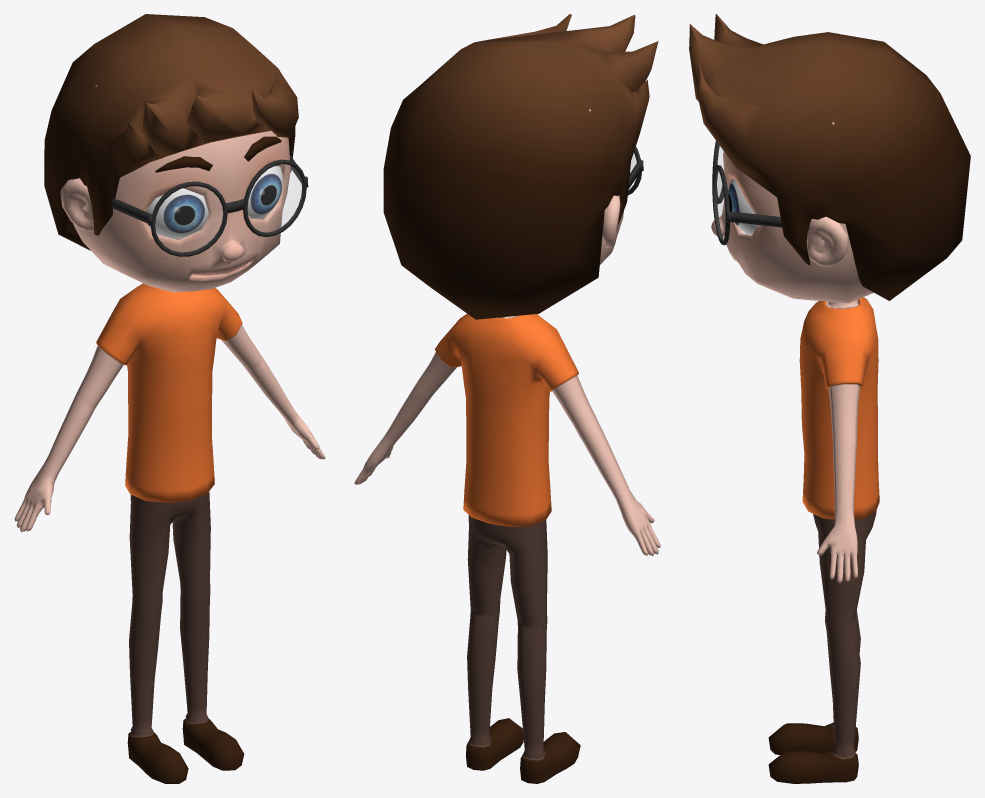
The model's file is Boy1.obj.
3 views of the same model, side by side, from view 1: azimuth 30°, elevation 25°; view 2: azimuth 150°, elevation 25°; view 3: azimuth 270°, elevation 25° (orthographic).
Parts seen in each view (by area): view 1: Boy; view 2: Boy; view 3: Boy.
Part boxes in pixels (x1=…): Boy: x1=14, y1=14, x2=325, y2=783; Boy: x1=354, y1=14, x2=660, y2=783; Boy: x1=689, y1=14, x2=970, y2=783.
Bounding box in the file's own units: 25.83 × 59.49 × 21.11.
